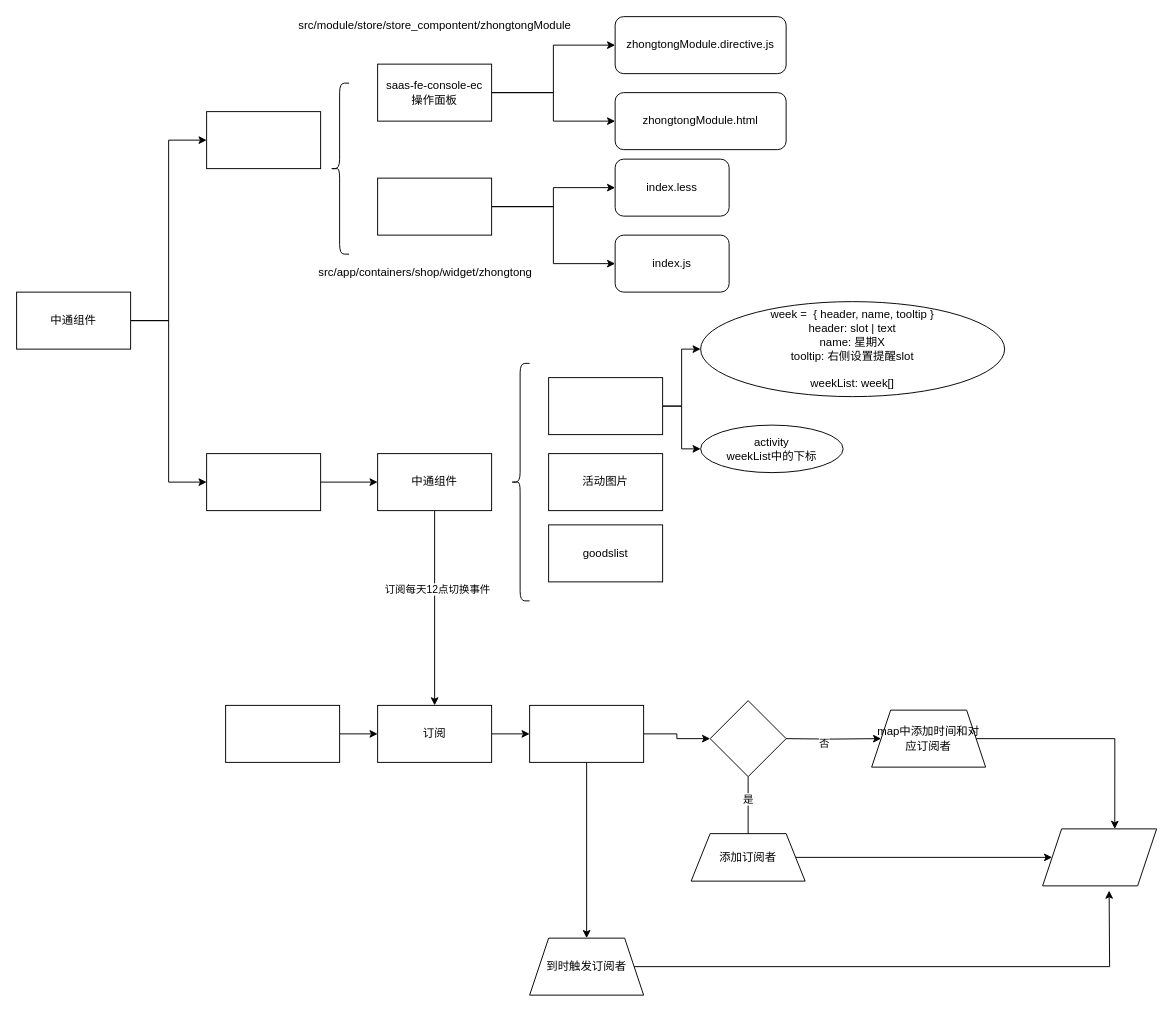
Image size: 1173x1012. Some labels were removed from this diagram. The centre of each missing label's shape, as x and y in pixels:
B端 目录结构: [263,140]
C端: [263,482]
saas-fe-retail-react 回显: [434,206]
time_scheduler: [282,733]
存在对应时间: [747,738]
星期组件 weekComponent: [605,406]
计算时间启动定时器: [586,733]
订阅者: [1099,857]
